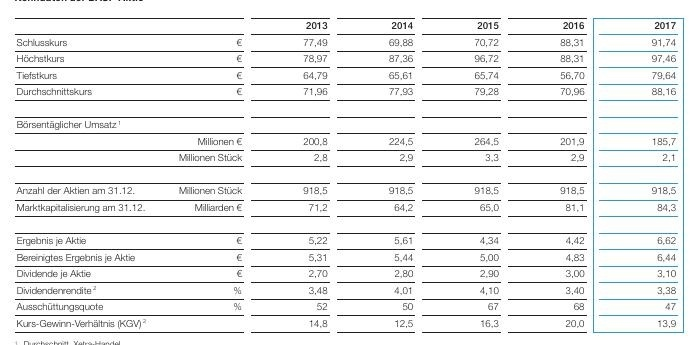table: (0, 0, 699, 345)
